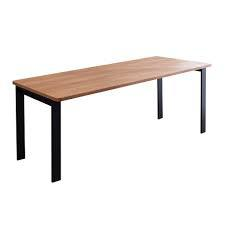desk: (14, 38, 210, 187)
